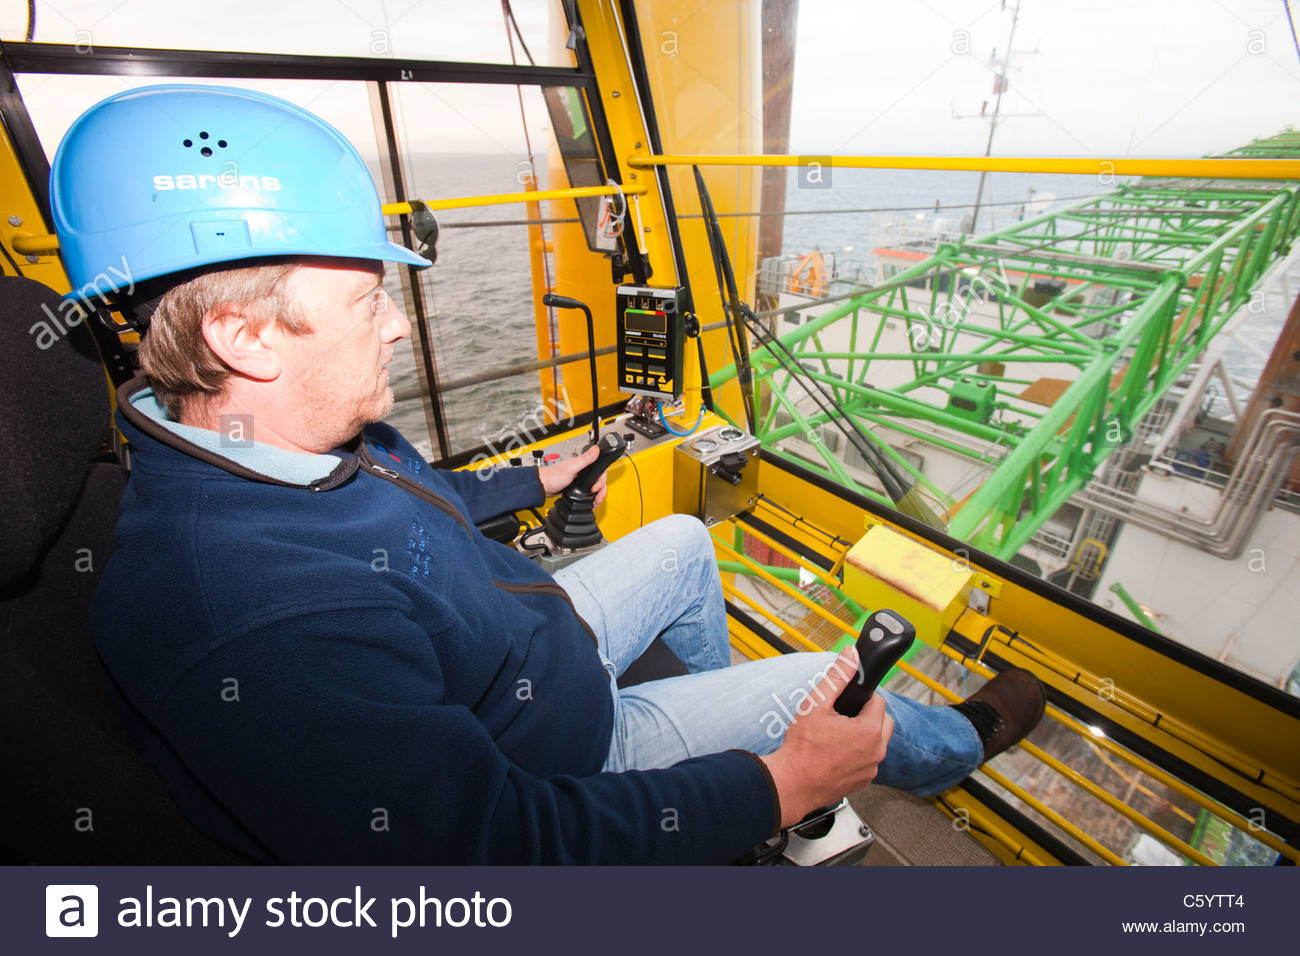crane-operator: (34, 71, 561, 593)
